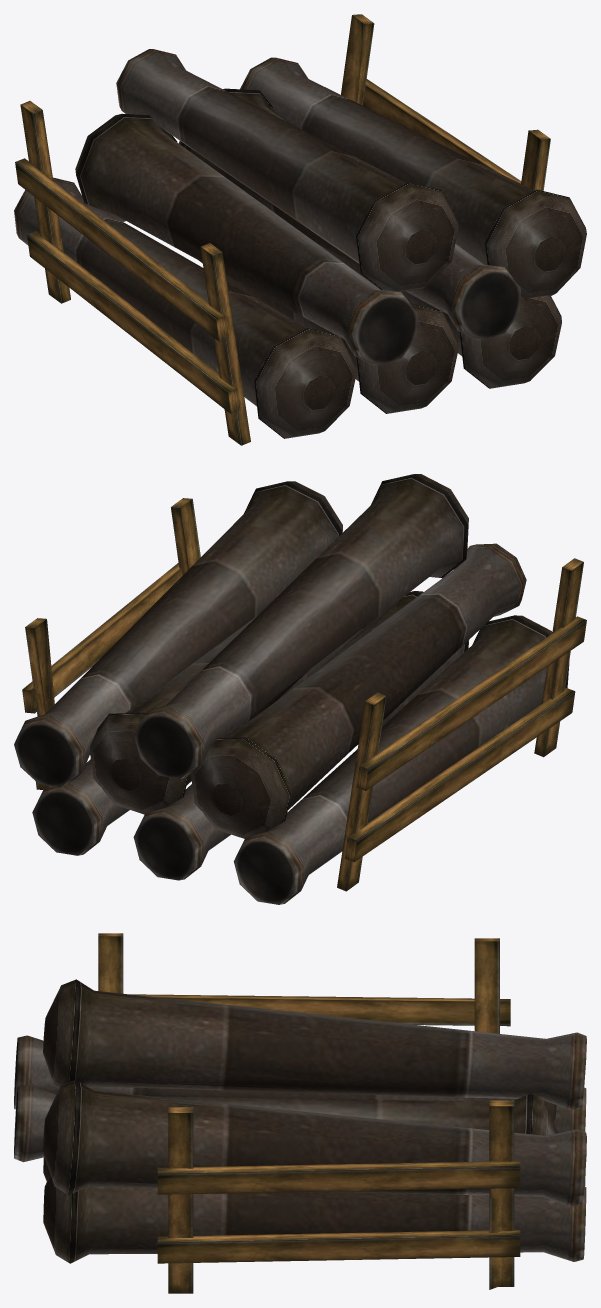
Rendered from cannon_stack_01.fbx.
The picture shows the model from 3 angles, top to bottom: view 1: azimuth 30°, elevation 25°; view 2: azimuth 150°, elevation 25°; view 3: azimuth 270°, elevation 25°; orthographic projection.
Parts seen in each view (by area): view 1: barrel_High5, barrel_High3, barrel_High6, barrel_High2, barrel_High4, barrel_High1, wood3.001, wood4.001, barrel_High, wood2.001, wood1.001, wood3 (+2 smaller); view 2: barrel_High5, barrel_High3, barrel_High6, barrel_High2, barrel_High4, wood3.001, wood4.001, barrel_High1, barrel_High, wood3, wood1.001, wood2.001 (+2 smaller); view 3: barrel_High5, barrel_High6, barrel_High, wood3, wood4, barrel_High4, wood3.001, barrel_High3, wood1, wood2, wood1.001, wood2.001 (+1 smaller).
Part boxes in pixels (x1=…): barrel_High5: x1=116, y1=49, x2=458, y2=292; barrel_High3: x1=75, y1=113, x2=417, y2=365; barrel_High6: x1=240, y1=57, x2=586, y2=298; barrel_High2: x1=14, y1=177, x2=356, y2=438; barrel_High4: x1=179, y1=88, x2=520, y2=340; barrel_High1: x1=199, y1=260, x2=458, y2=413; wood3.001: x1=15, y1=158, x2=228, y2=341; wood4.001: x1=27, y1=231, x2=240, y2=413; barrel_High: x1=317, y1=243, x2=561, y2=388; wood2.001: x1=200, y1=243, x2=250, y2=445; wood1.001: x1=20, y1=101, x2=70, y2=303; wood3: x1=363, y1=79, x2=521, y2=183; barrel_High5: x1=134, y1=474, x2=468, y2=778; barrel_High3: x1=191, y1=543, x2=526, y2=838; barrel_High6: x1=14, y1=481, x2=342, y2=787; barrel_High2: x1=233, y1=615, x2=569, y2=904; barrel_High4: x1=90, y1=615, x2=308, y2=814; wood3.001: x1=356, y1=616, x2=586, y2=790; wood4.001: x1=345, y1=687, x2=575, y2=861; barrel_High1: x1=133, y1=591, x2=468, y2=880; barrel_High: x1=32, y1=625, x2=366, y2=855; wood3: x1=22, y1=563, x2=182, y2=713; wood1.001: x1=337, y1=692, x2=386, y2=891; wood2.001: x1=534, y1=558, x2=583, y2=757; barrel_High5: x1=43, y1=979, x2=586, y2=1110; barrel_High6: x1=43, y1=1079, x2=586, y2=1206; barrel_High: x1=43, y1=1174, x2=586, y2=1263; wood3: x1=157, y1=1161, x2=520, y2=1194; wood4: x1=157, y1=1229, x2=520, y2=1263; barrel_High4: x1=14, y1=1085, x2=557, y2=1162; wood3.001: x1=130, y1=994, x2=510, y2=1026; barrel_High3: x1=14, y1=1035, x2=556, y2=1121; wood1: x1=168, y1=1107, x2=193, y2=1293; wood2: x1=489, y1=1100, x2=514, y2=1289; wood1.001: x1=474, y1=938, x2=499, y2=1033; wood2.001: x1=98, y1=933, x2=123, y2=993.
Size of the model in its own units: 651 by 389 by 876.
Materials: 1 (1 with a texture image).
